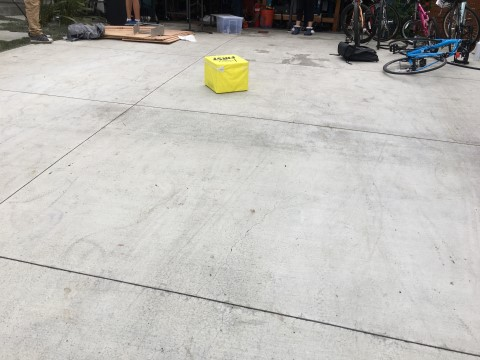cube: (204, 55, 250, 93)
